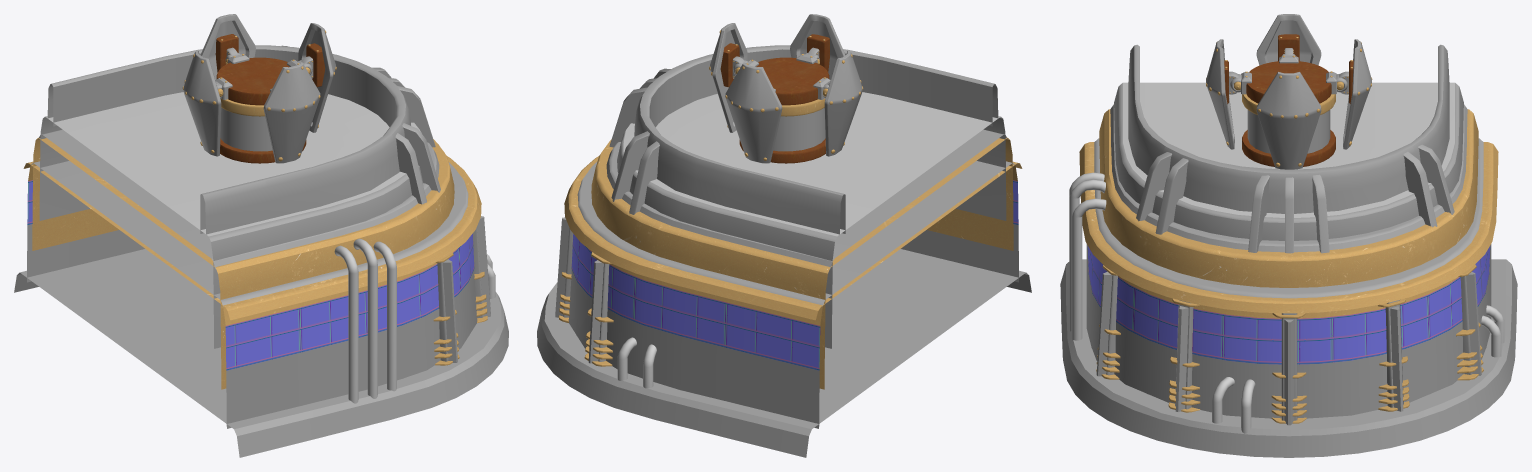
The model's file is Turret_Edge.fbx.
3 renders of one model, left to right at view 1: azimuth 30°, elevation 25°; view 2: azimuth 150°, elevation 25°; view 3: azimuth 270°, elevation 25°, orthographic.
Parts seen in each view (by area): view 1: Turret_Edge; view 2: Turret_Edge; view 3: Turret_Edge.
Part boxes in pixels (box(x1,y1,x2,y2)): Turret_Edge: box(14, 14, 508, 457); Turret_Edge: box(537, 14, 1031, 457); Turret_Edge: box(1060, 14, 1517, 457).
Size of the model in its own units: 655 by 548 by 727.
